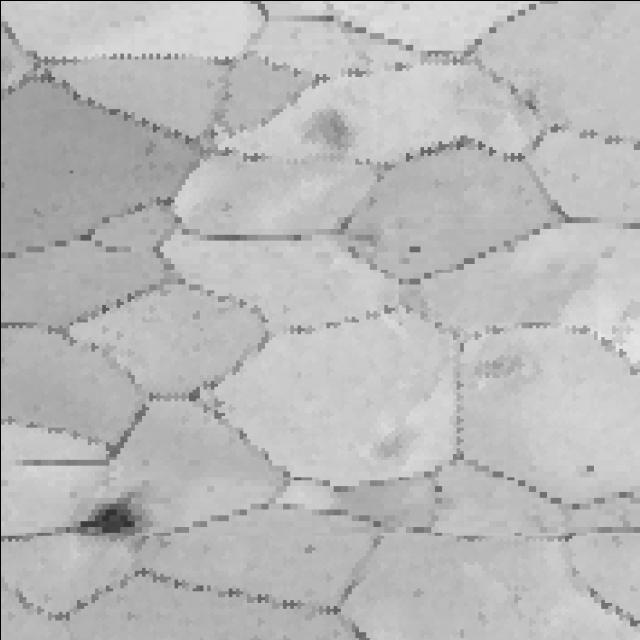good_void: (75, 480, 157, 548), (286, 103, 361, 155), (297, 544, 320, 557), (427, 481, 442, 499), (403, 242, 422, 255), (581, 458, 595, 475)
